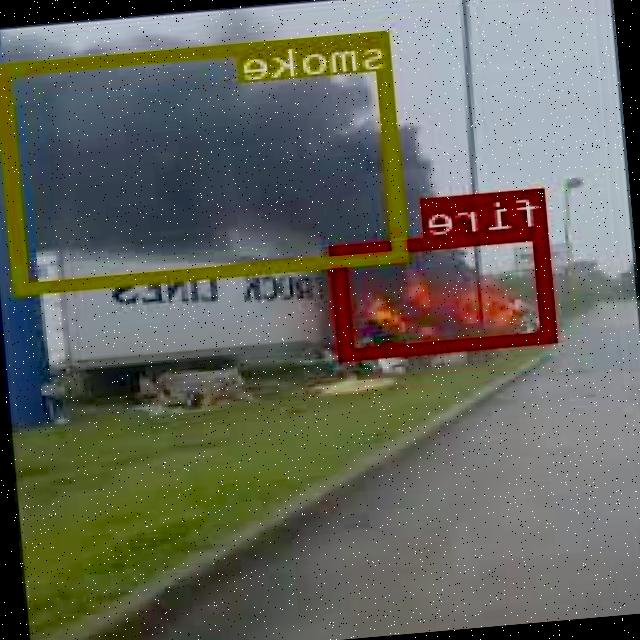fire: (333, 225, 558, 358)
smoke: (0, 27, 409, 292)
